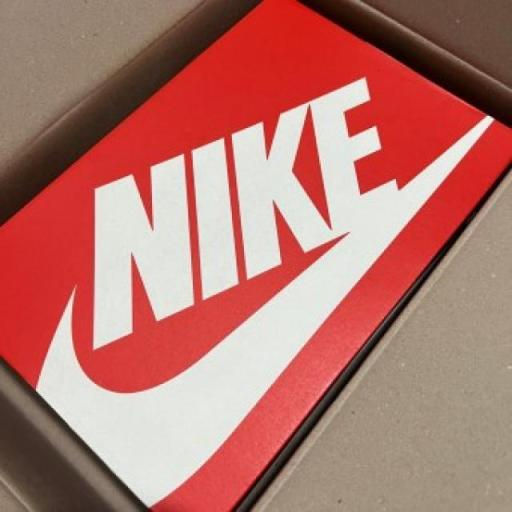Nike: (90, 72, 400, 350)
